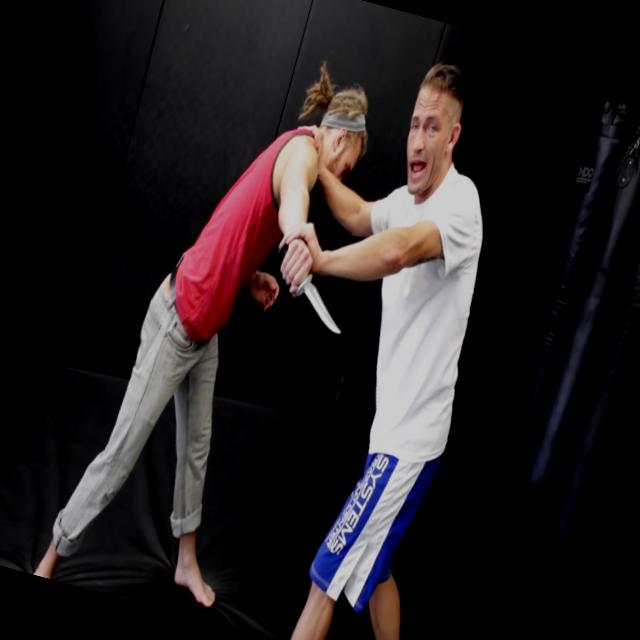knife: (255, 234, 365, 348)
